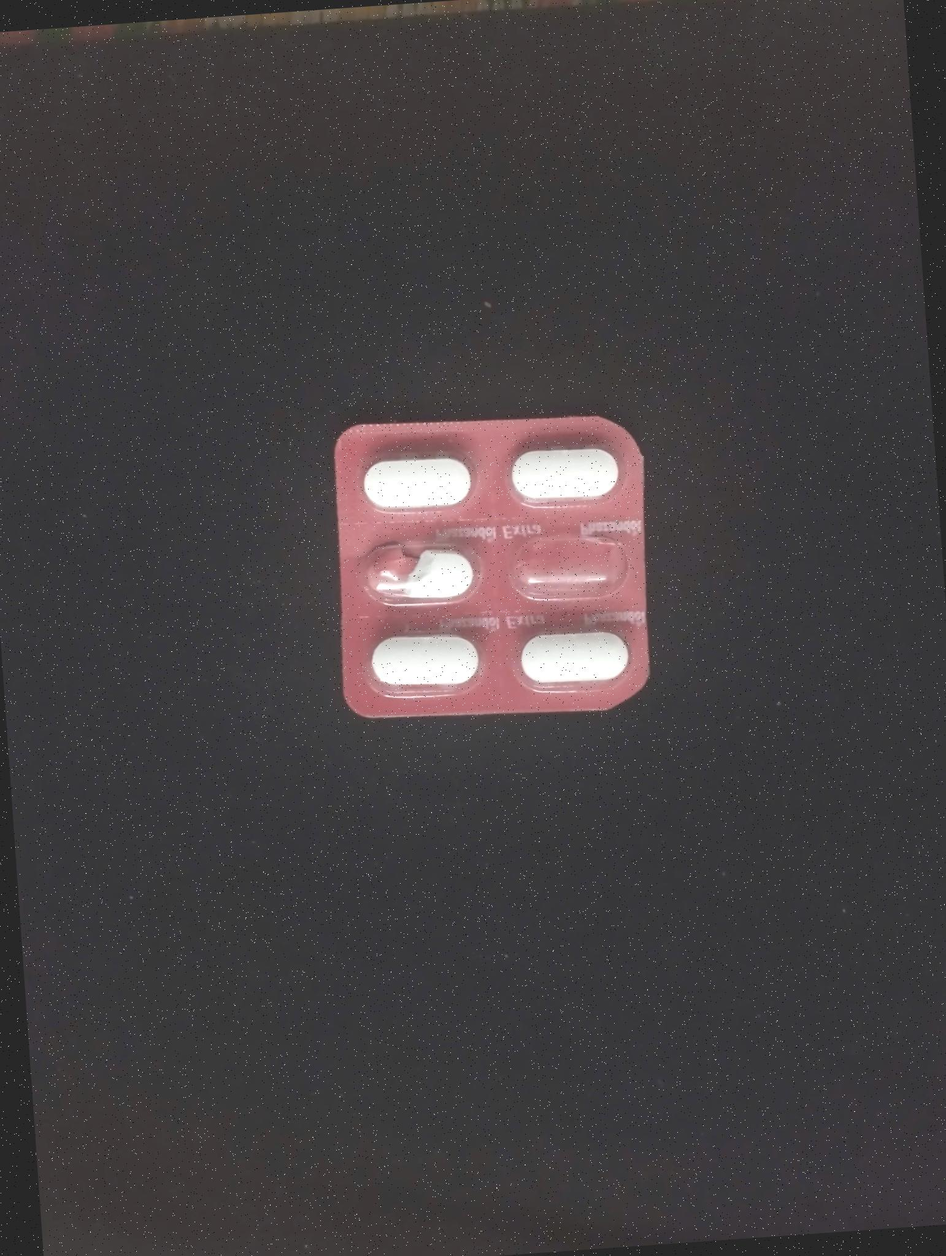Empty: (499, 527, 634, 606)
Full: (503, 618, 635, 699), (502, 431, 626, 515), (348, 448, 477, 521), (364, 626, 483, 694)
Partial: (349, 536, 484, 612)
